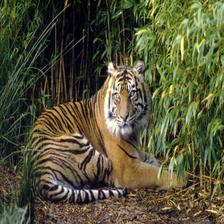tiger: (31, 63, 198, 200)
